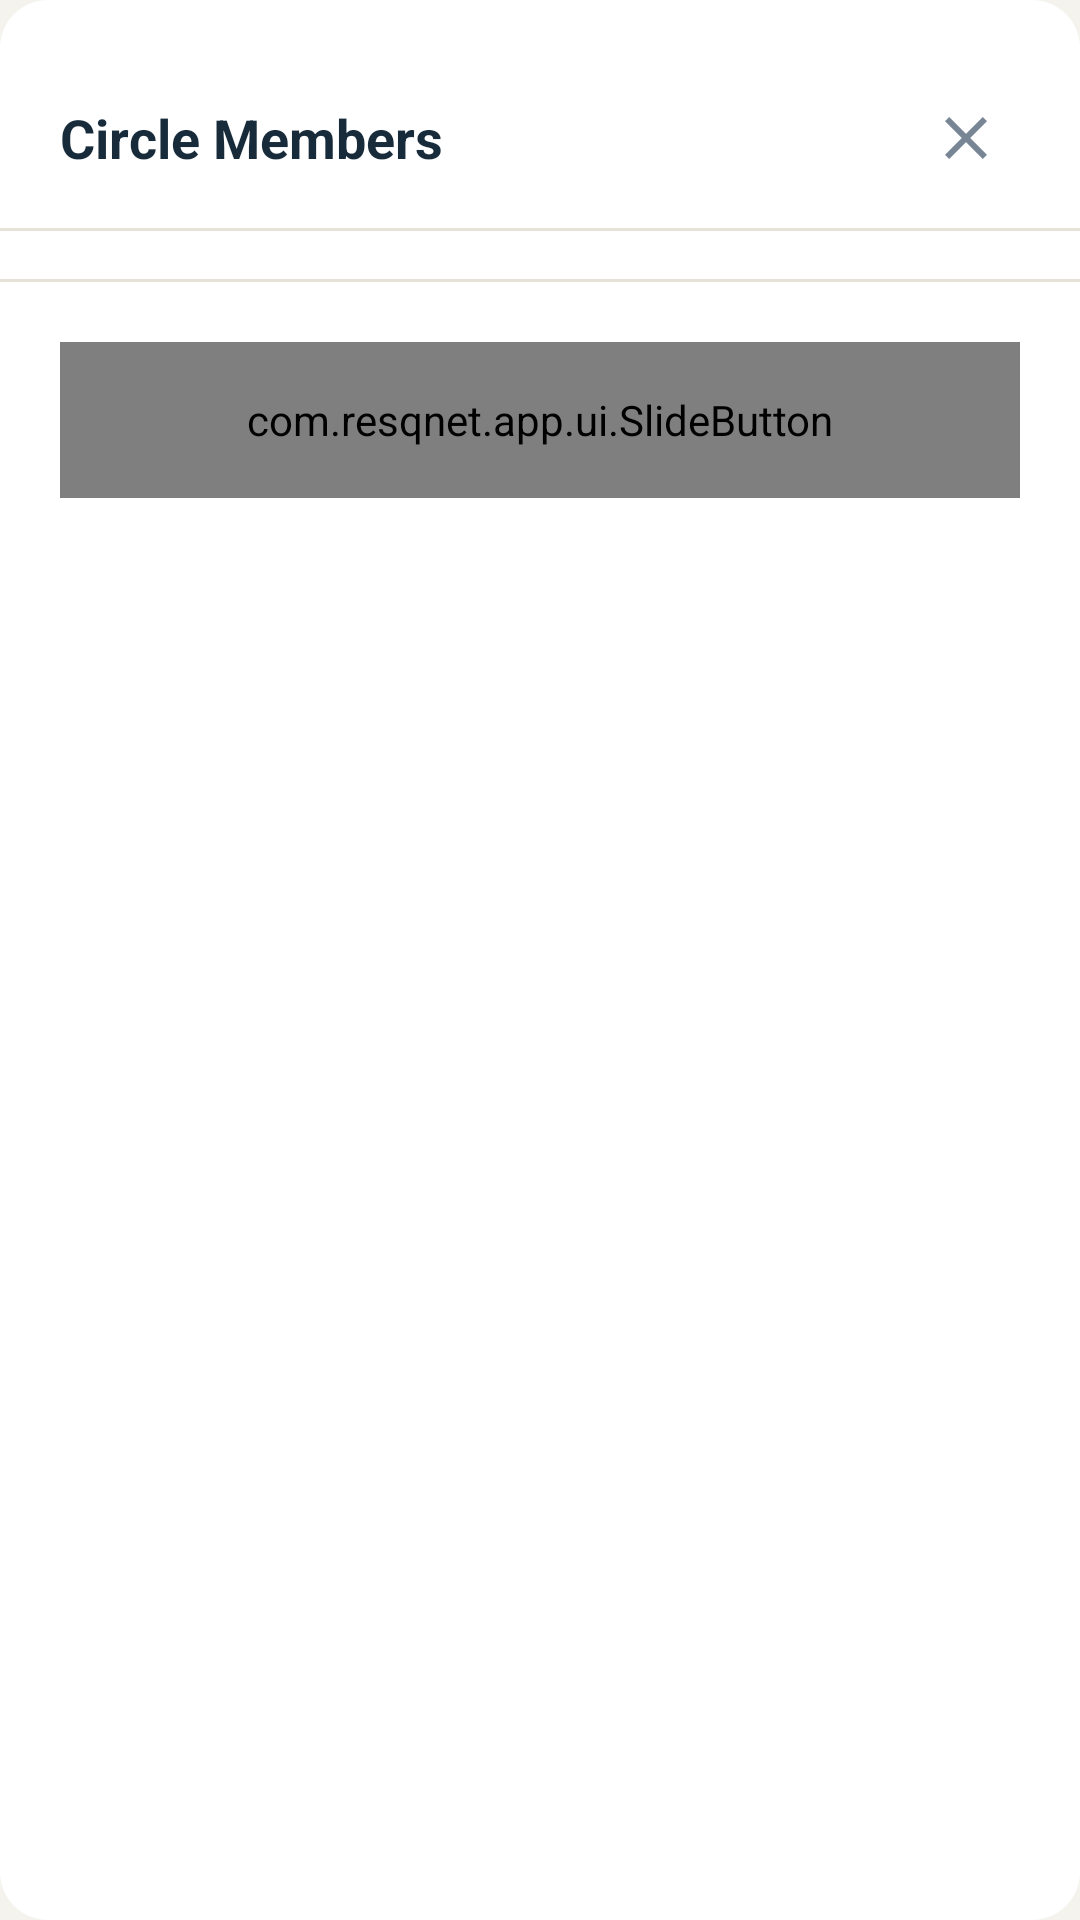

Where icons sit on this 1080 × 1920 app screen, as [left=x1, top=y1, right=x2, bottom=y2]:
Close: [left=945, top=117, right=987, bottom=159]
